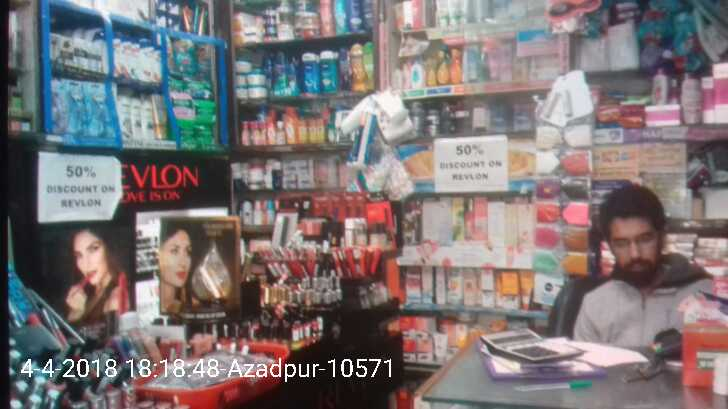venus: (53, 79, 84, 135), (84, 81, 113, 138)
